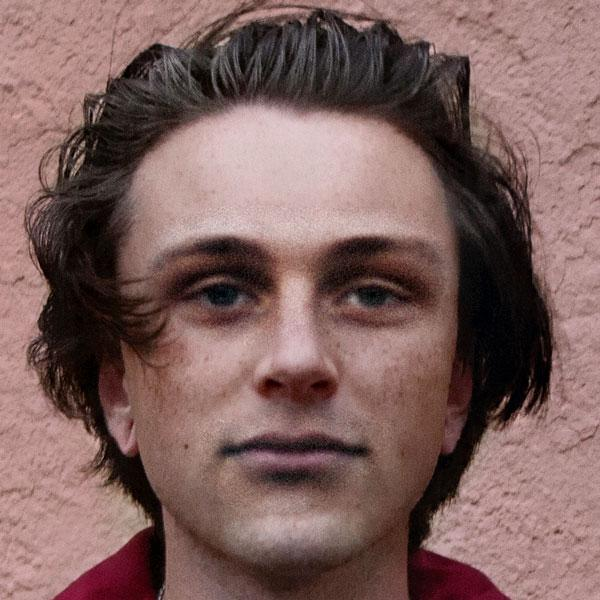Eyes: (168, 258, 272, 329), (325, 260, 425, 329)
